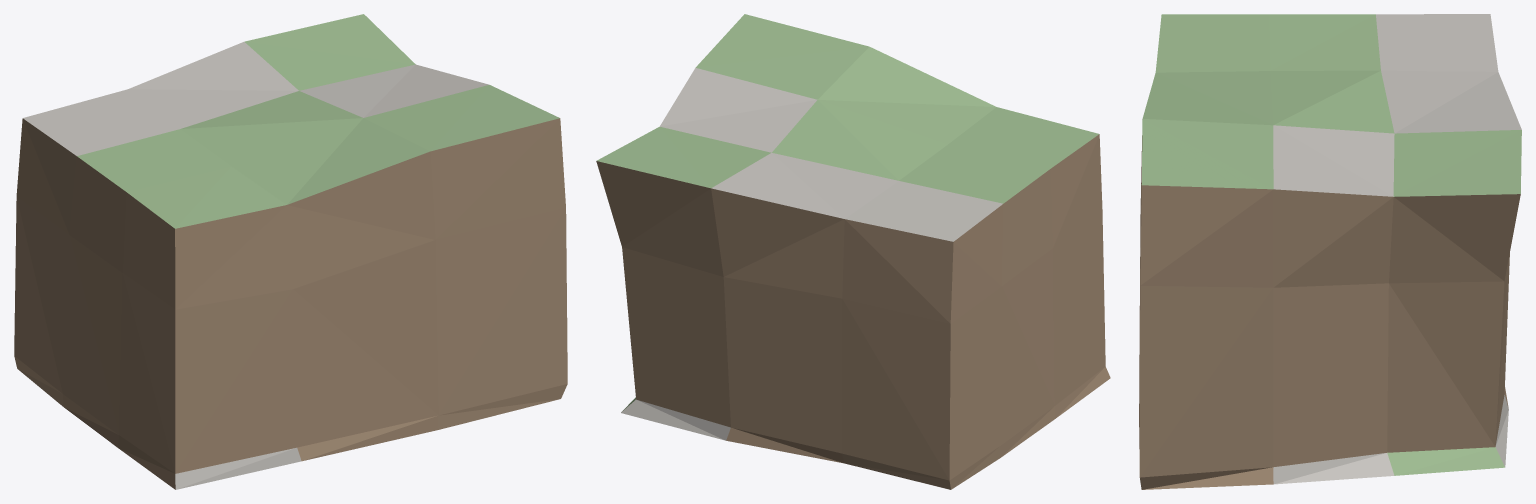
Rendered from ROCK-00.glb.
3 views of the same model, side by side, from view 1: azimuth 30°, elevation 25°; view 2: azimuth 150°, elevation 25°; view 3: azimuth 270°, elevation 25° (orthographic). The views are drawn at different scales.
Parts seen in each view (by area): view 1: ROCK-00; view 2: ROCK-00; view 3: ROCK-00.
Part boxes in pixels (x1,y1,x2,y2): ROCK-00: [14, 14, 567, 489]; ROCK-00: [596, 14, 1110, 489]; ROCK-00: [1139, 14, 1521, 489].
Bounding box in the file's own units: 0.8436 × 0.5835 × 0.6648.
